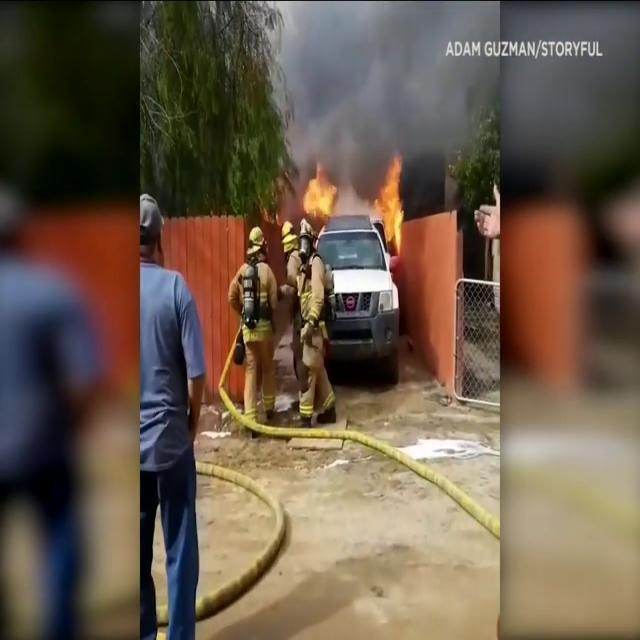Fire: (378, 157, 406, 260), (298, 172, 341, 221)
Smoke: (268, 1, 497, 174)
